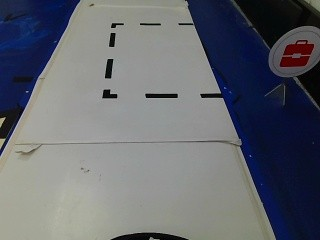company: (264, 26, 318, 77)
